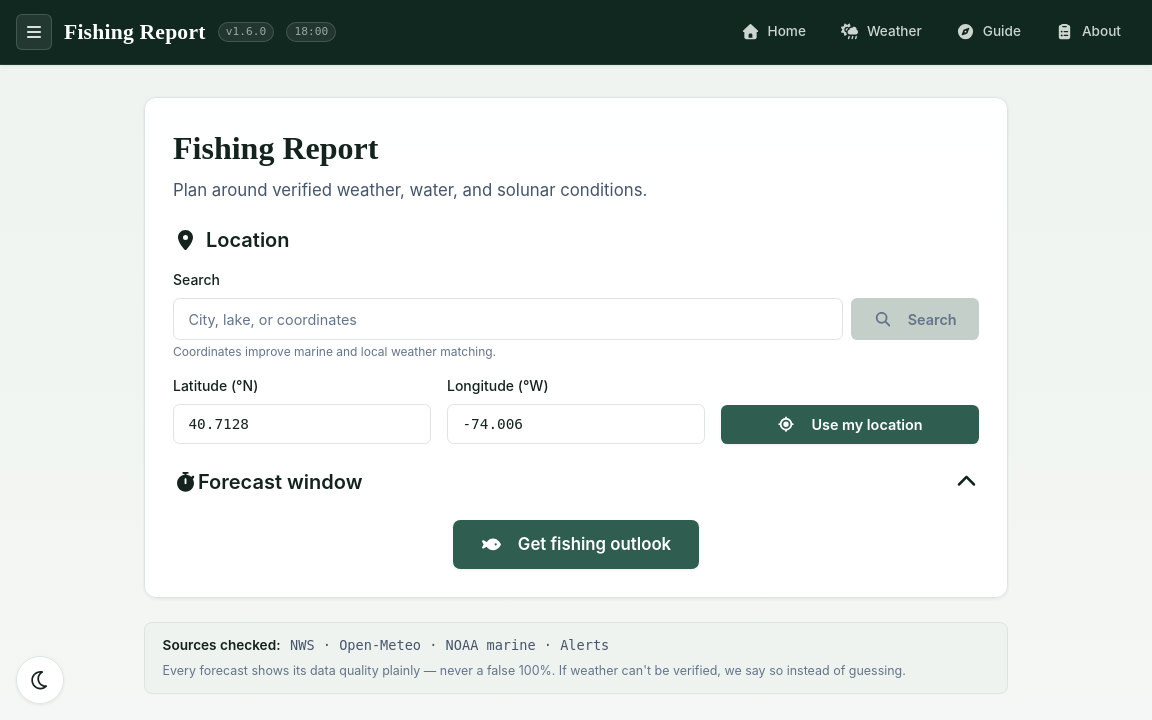
Test: MissionDrawer › selects a saved spot: updates the draft, closes, and navigates Home
The width and height of the screenshot is (1152, 720).
Step 1. Click the button with test id "mission-drawer-toggle" → (34, 32), box [16,14,52,50]
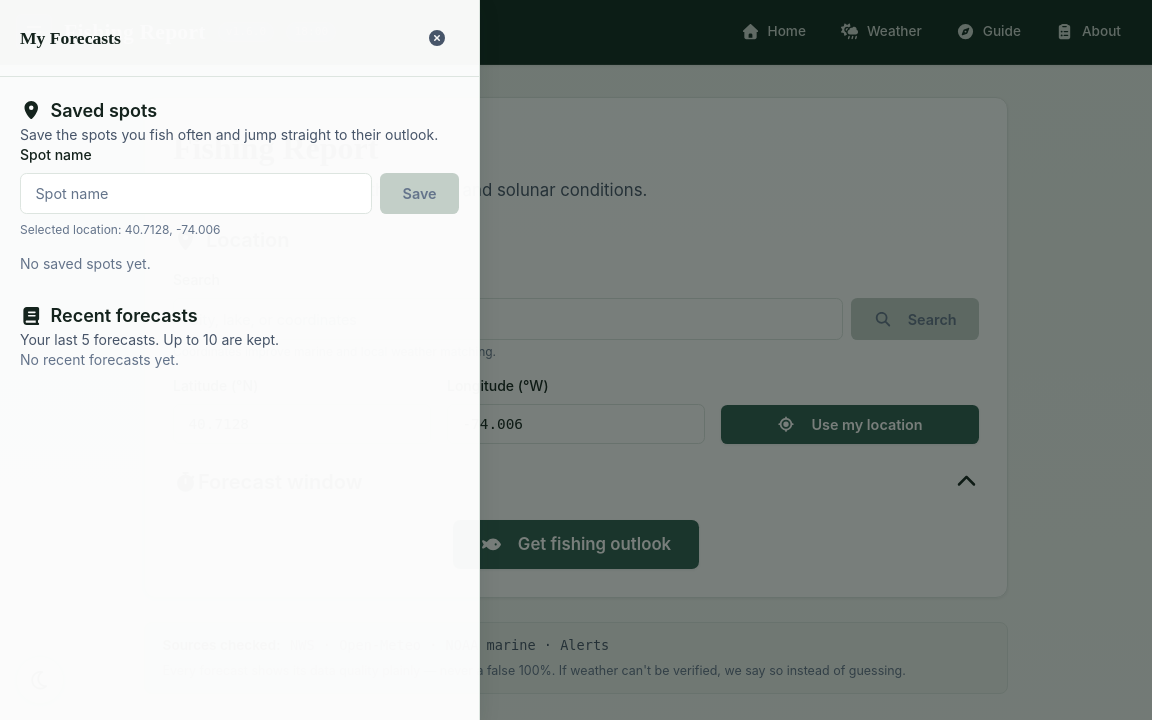
Step 2. Type "Dock A" into the field with test id "waypoint-name-input" → (196, 194), box [20,173,372,214]
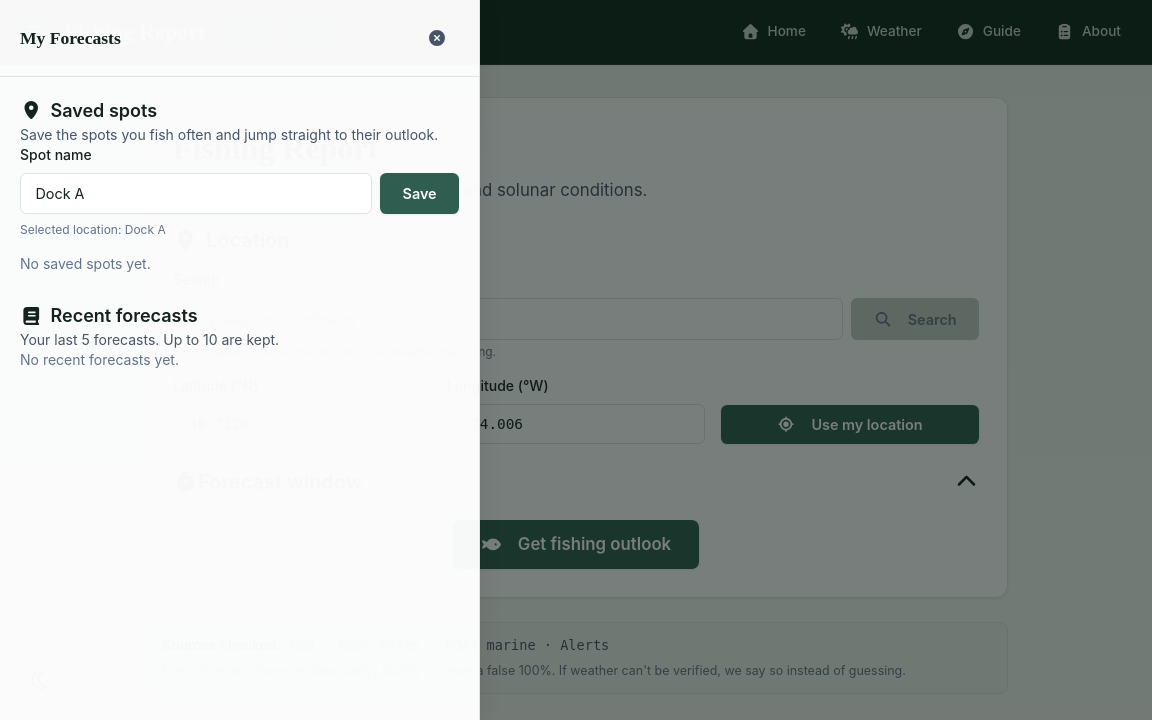
Step 3. Click the button with test id "save-waypoint-button" → (420, 194), box [380,173,459,214]
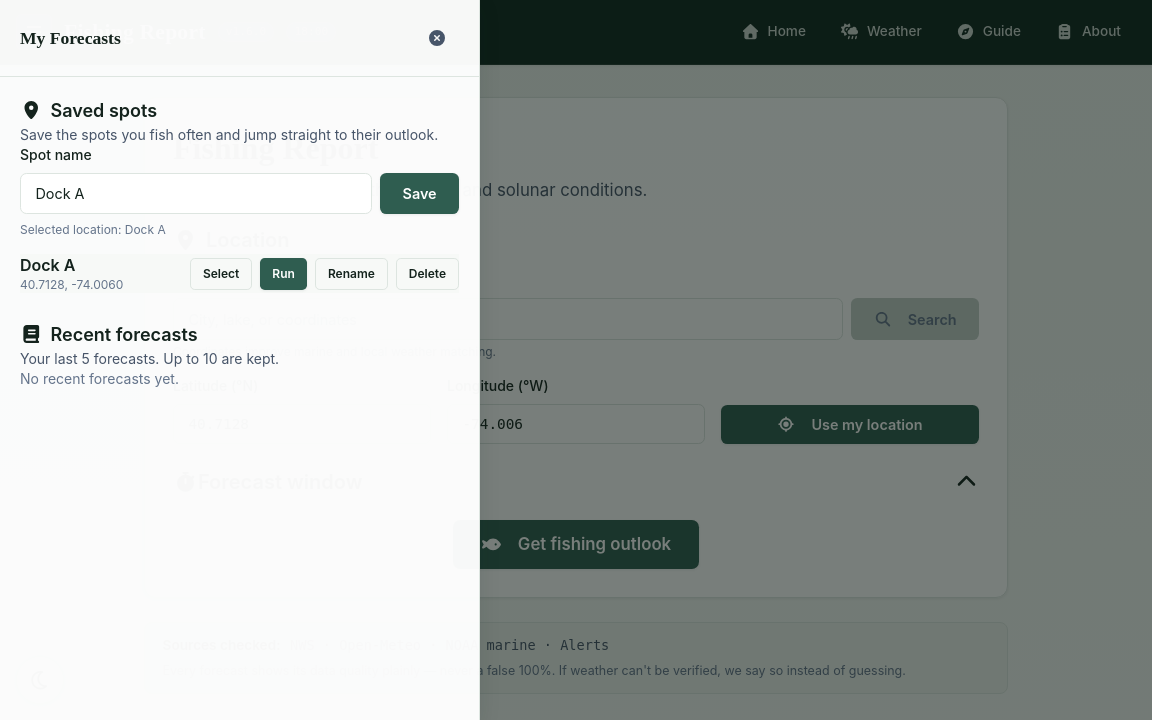
Step 4. Click the button "Select" → (221, 274), box [190,258,252,290]
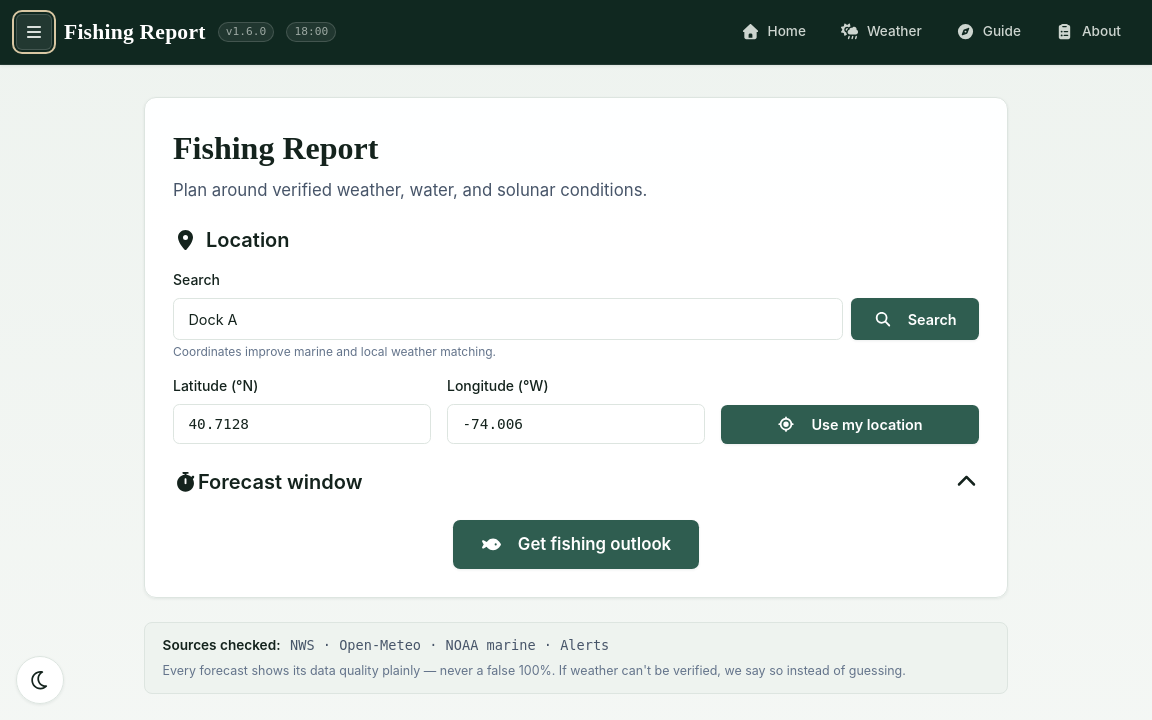
expect the dialog is gone: met
